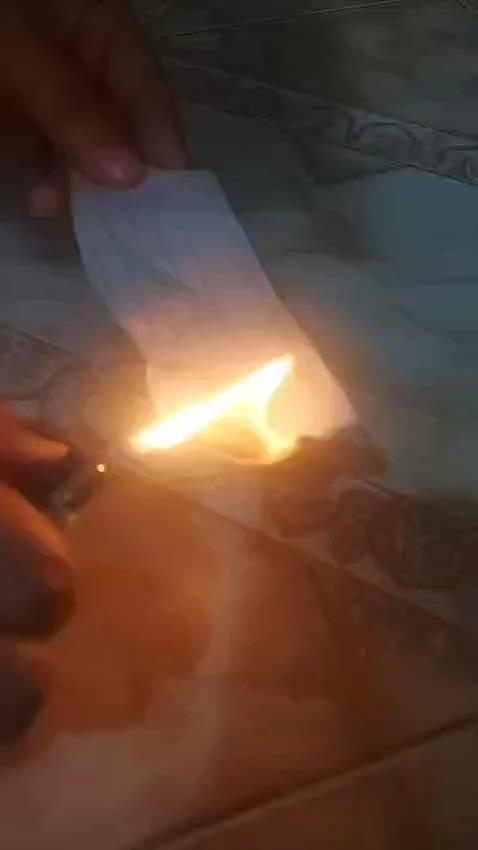Fire: (121, 332, 327, 472)
